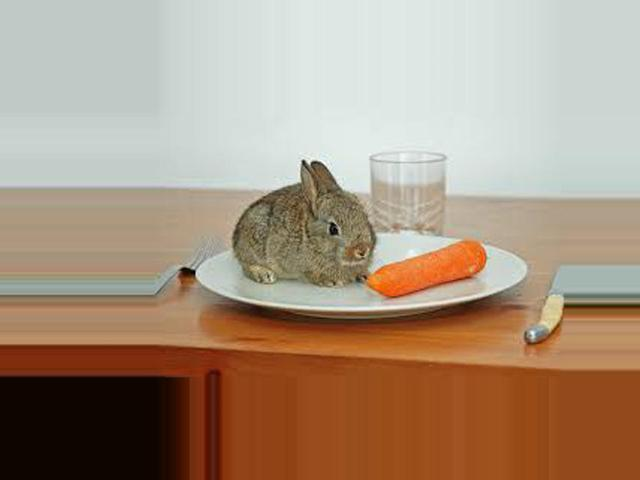carrot: (360, 236, 496, 304)
